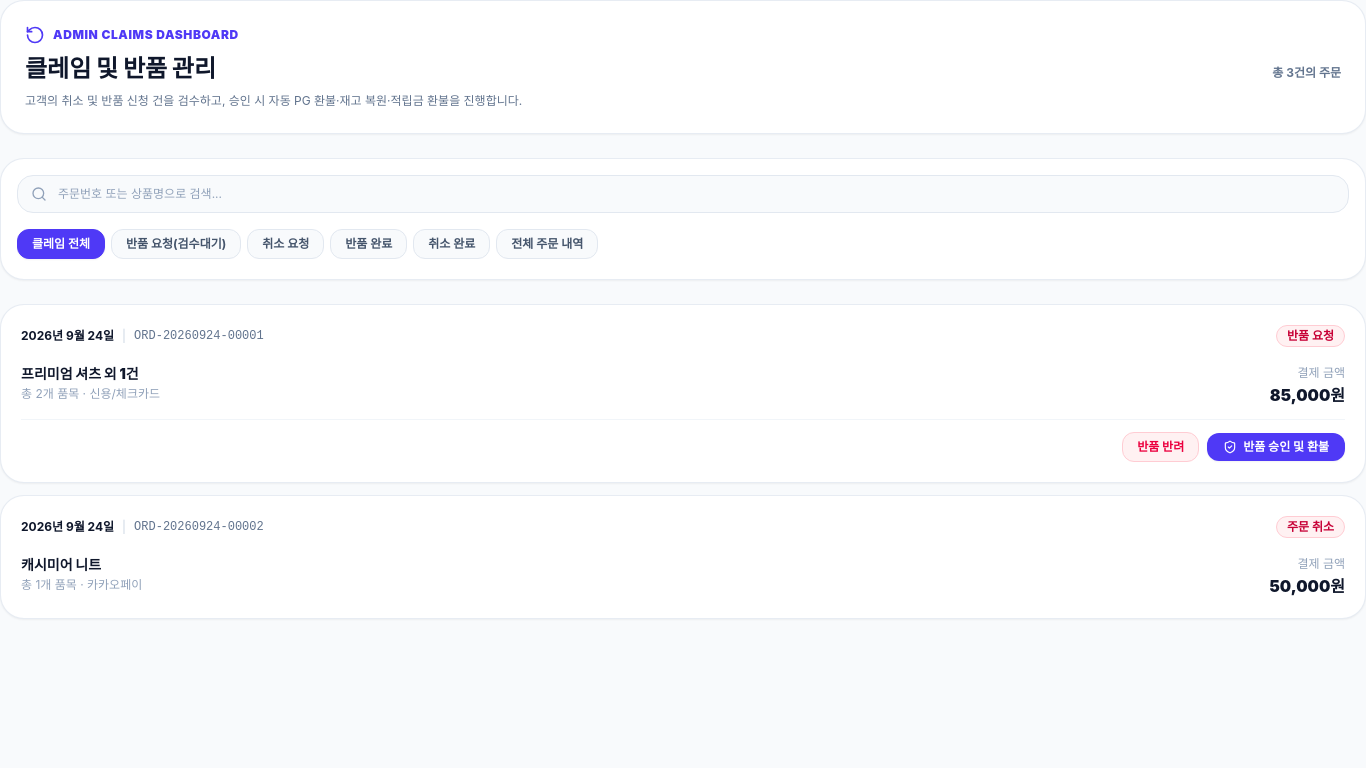
Scenario: AdminClaimsViewer Component › 반품 요청 주문에 대해 반품 반려 모달을 열고 사유 입력 후 반려를 실행하면 상태가 배송 완료로 복귀한다
Click the button "반품 반려" at {"x": 1161, "y": 447}, box [1122, 432, 1199, 462]
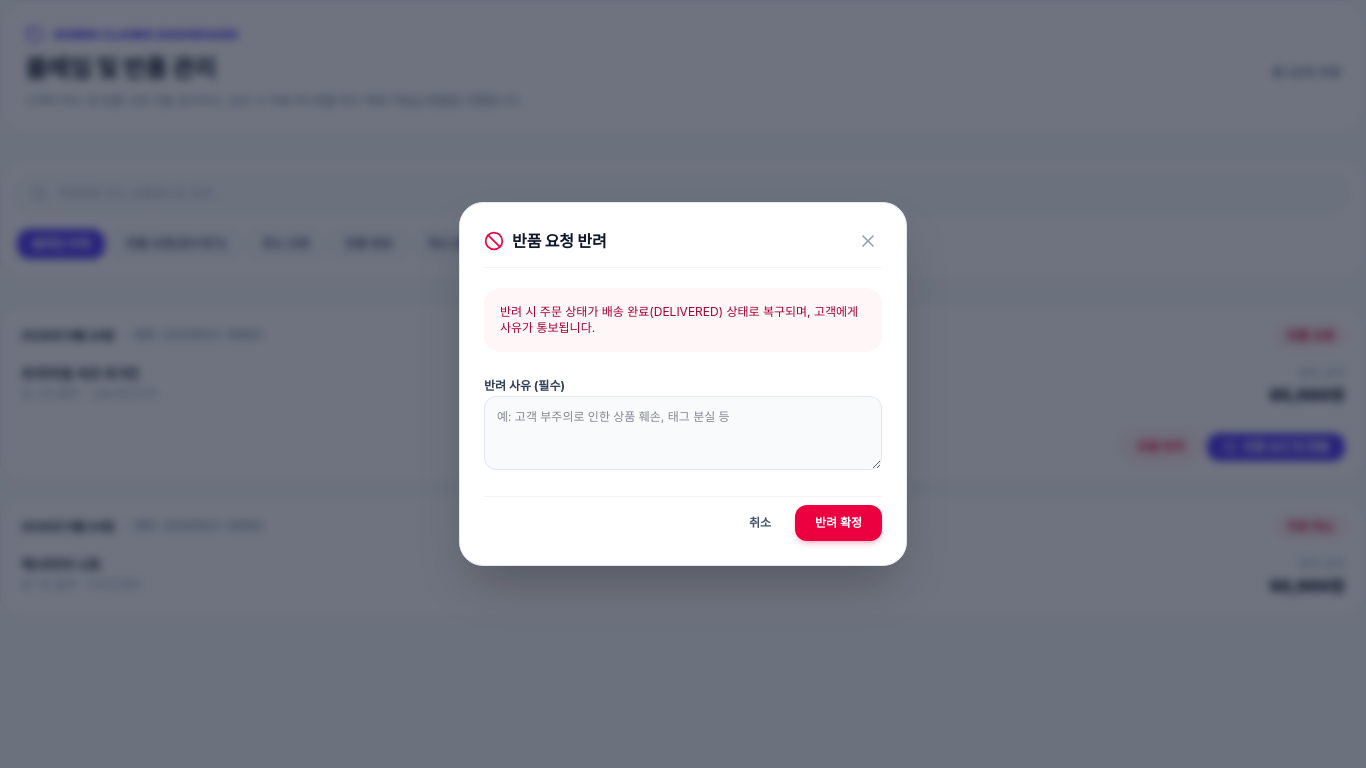
Check: the heading "반품 요청 반려" is shown, box [512, 229, 607, 253]
# 반려 사유 입력
Type "상품 훼손 확인" into the text box with placeholder "예: 고객 부주의로 인한 상품 훼손, 태그 분실 등" at {"x": 683, "y": 433}, box [484, 396, 882, 470]
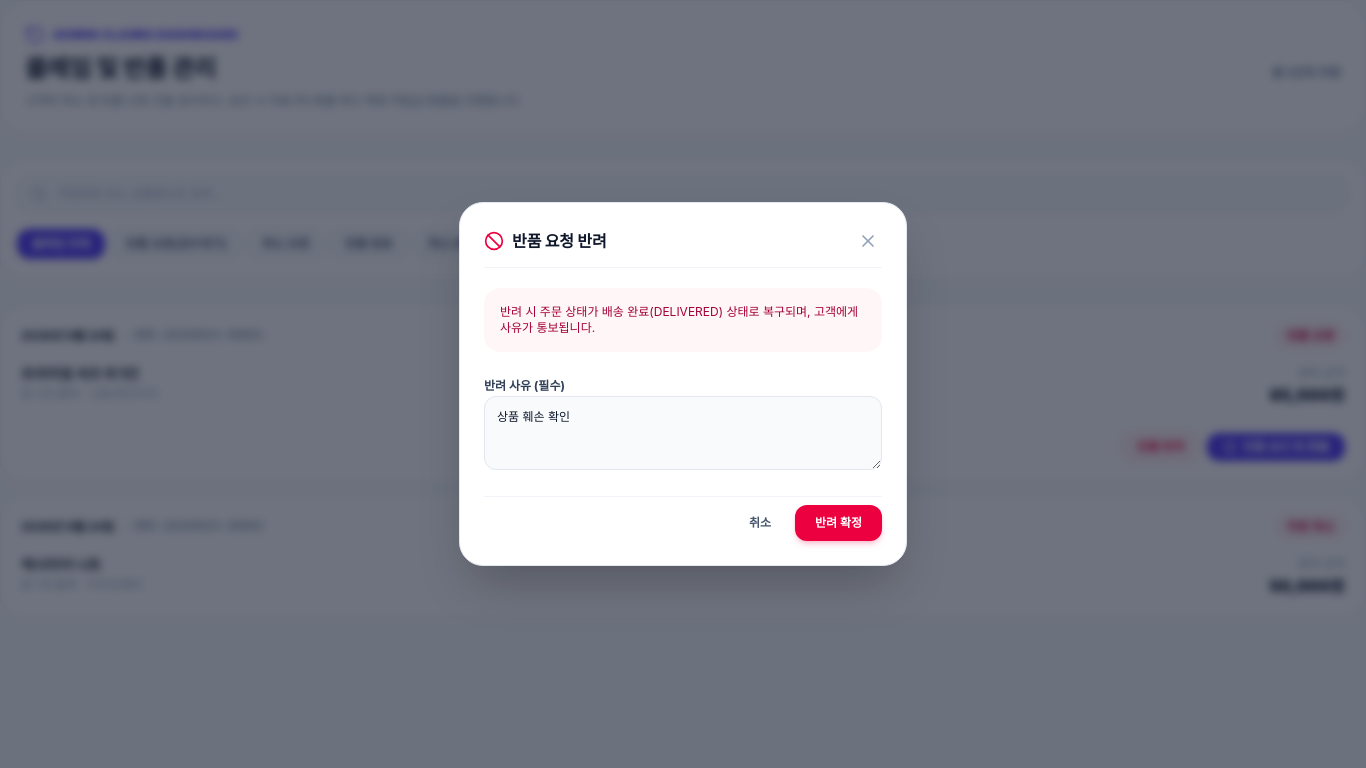
# 반려 확정 버튼 클릭
Click the button "반려 확정" at {"x": 838, "y": 523}, box [795, 505, 882, 541]
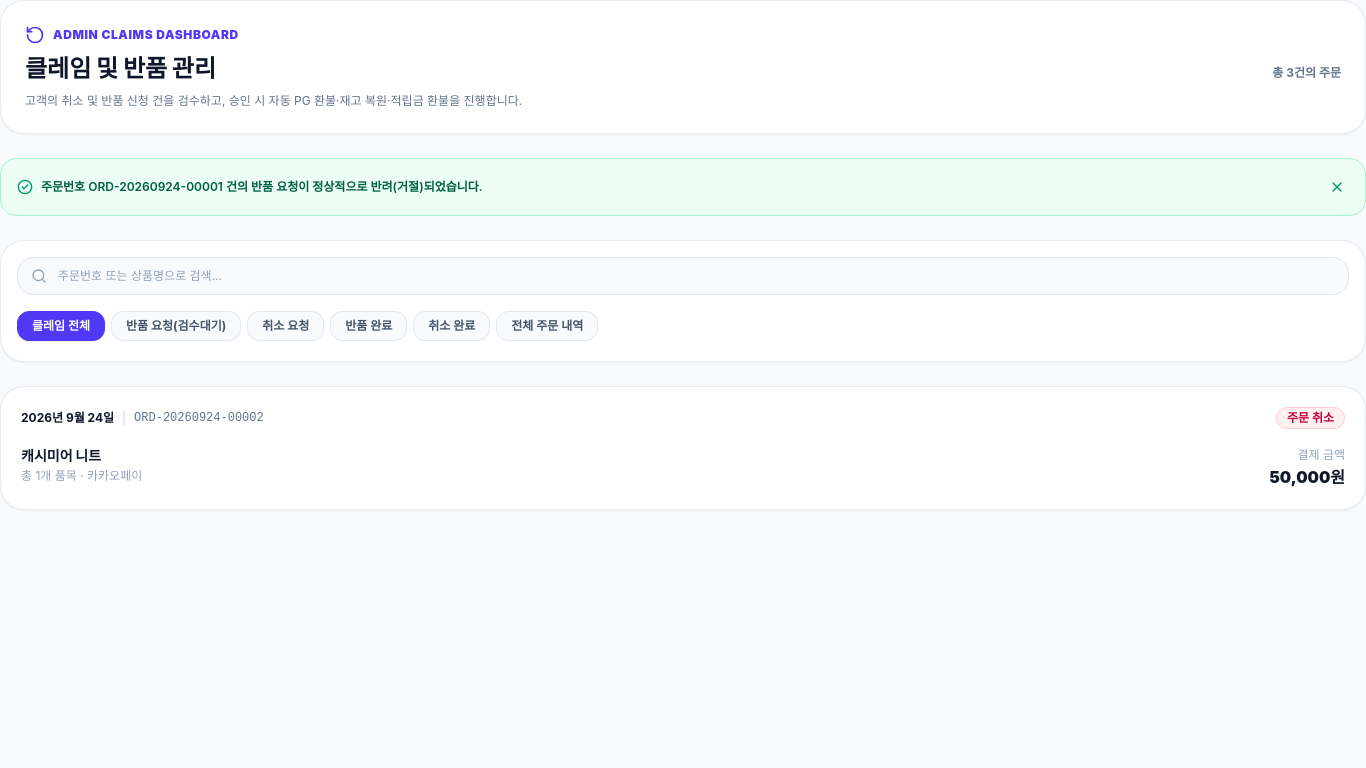
Check: the text "주문번호 ORD-20260924-00001 건의 반품 요청이 정상적으로 반려(거절)되었습니다." is shown, box [41, 179, 483, 195]
